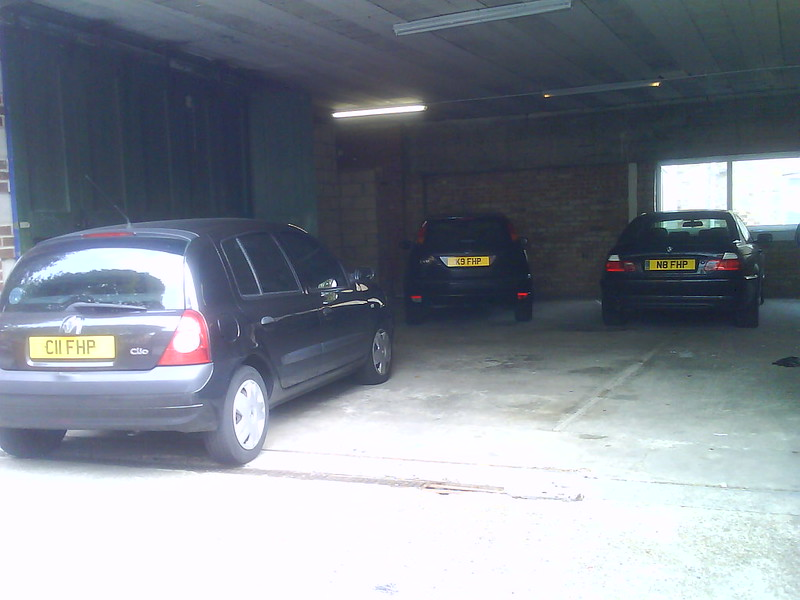number_plate: (25, 331, 123, 371), (645, 254, 704, 277), (441, 254, 502, 273)
